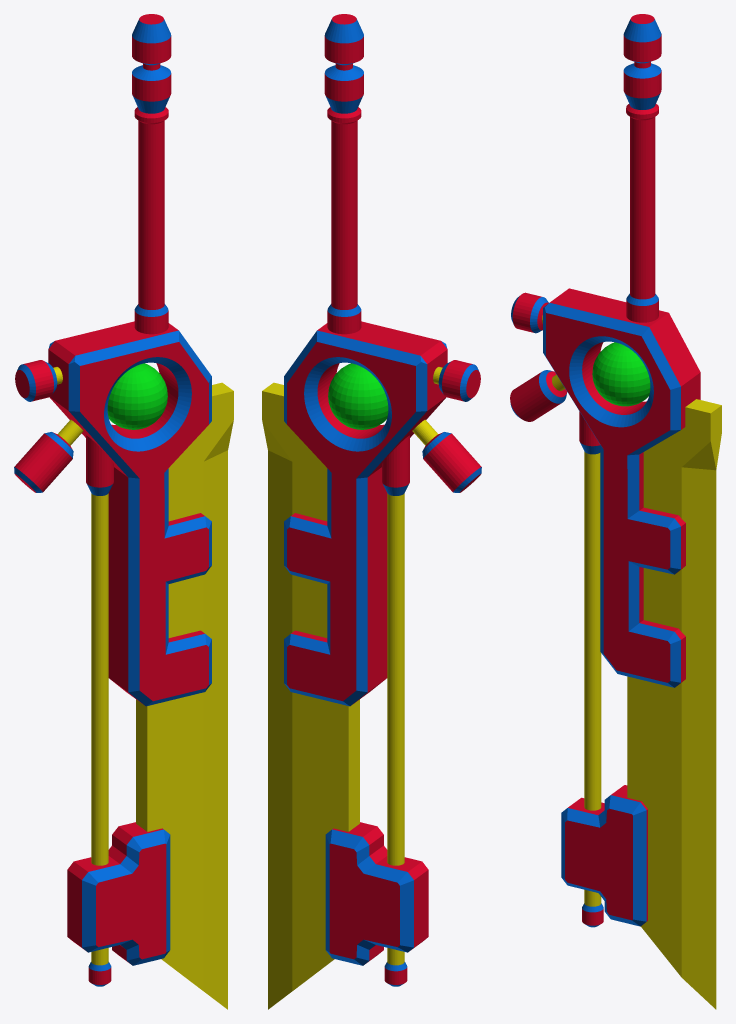
File: sword.fbx
The picture shows the model from 3 angles, left to right: view 1: azimuth 30°, elevation 25°; view 2: azimuth 150°, elevation 25°; view 3: azimuth 330°, elevation 25°; orthographic projection. The views are drawn at different scales.
Parts seen in each view (by area): view 1: Cylinder.004; view 2: Cylinder.004; view 3: Cylinder.004.
Part boxes in pixels (left/top/right/bottom): Cylinder.004: left=14, top=14, right=233, bottom=1009; Cylinder.004: left=262, top=14, right=481, bottom=1009; Cylinder.004: left=510, top=14, right=721, bottom=1009.
Bounding box in the file's own units: 40.95 × 187 × 11.53.
